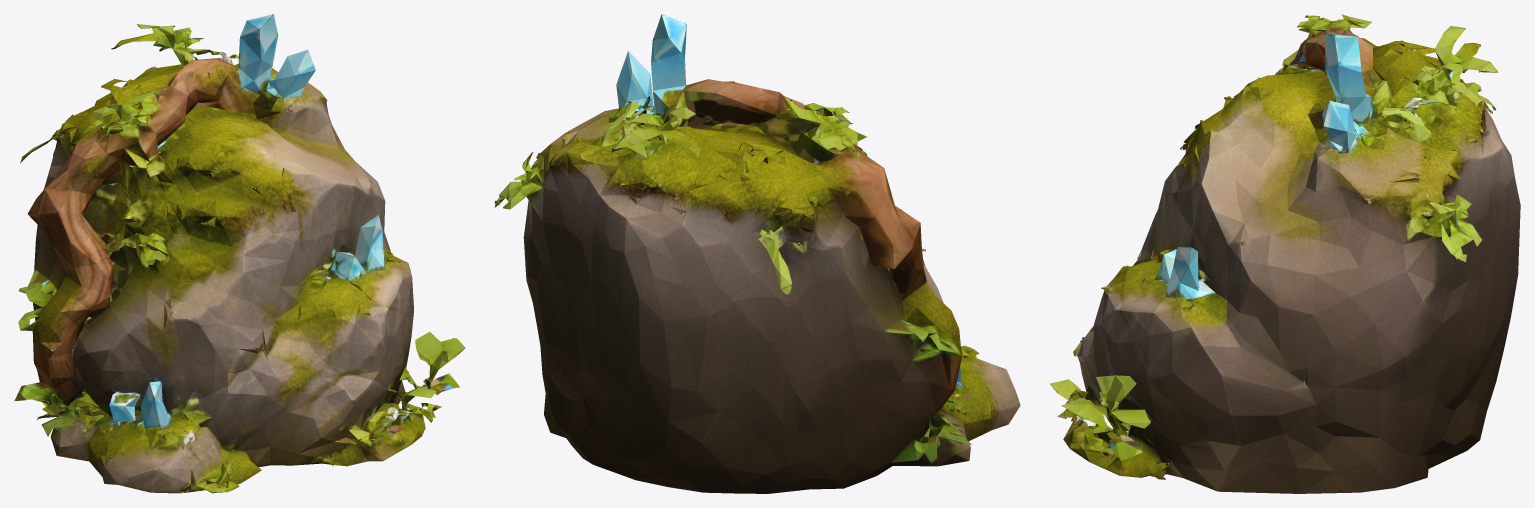
Rendered from fairy_crystal_shore_1117.glb.
3 renders of one model, left to right at view 1: azimuth 30°, elevation 25°; view 2: azimuth 150°, elevation 25°; view 3: azimuth 270°, elevation 25°, orthographic. The views are drawn at different scales.
Visible parts, largest first — view 1: world; view 2: world; view 3: world.
Part boxes in pixels (x1=…): world: x1=14, y1=14, x2=465, y2=493; world: x1=494, y1=14, x2=1020, y2=493; world: x1=1049, y1=14, x2=1520, y2=493.
Bounding box in the file's own units: 1.07 × 1 × 1.04.
Materials: 1 (1 with a texture image).
